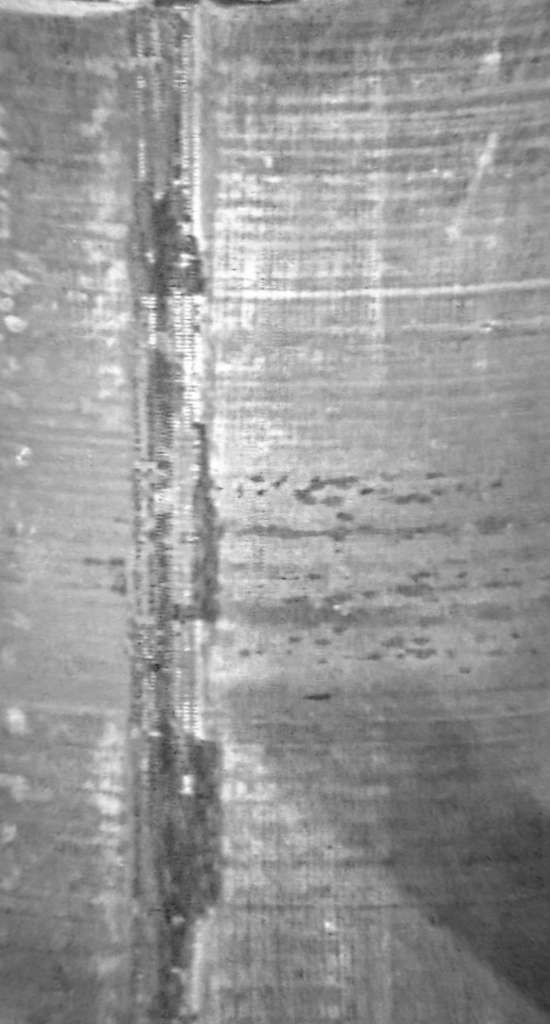splice: (123, 2, 225, 1023)
